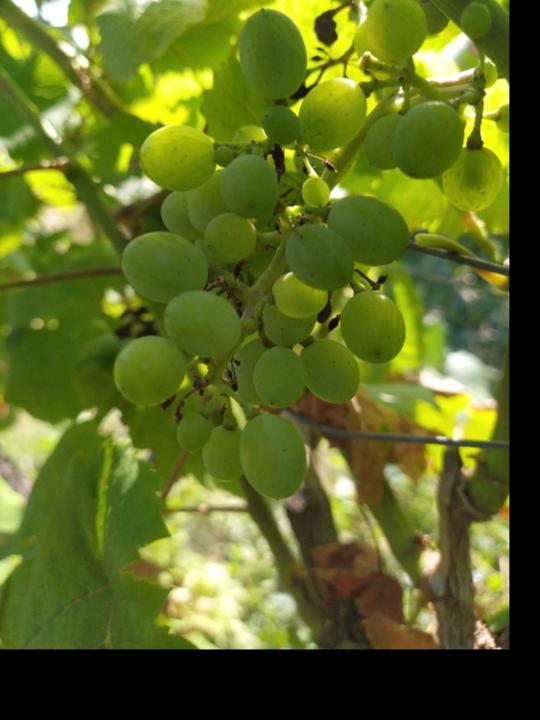grape: (108, 0, 502, 502)
